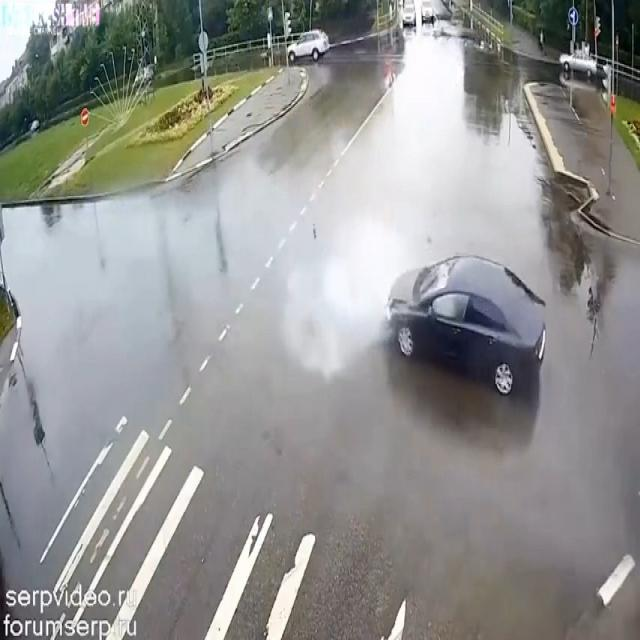Accident: (378, 218, 566, 450)
